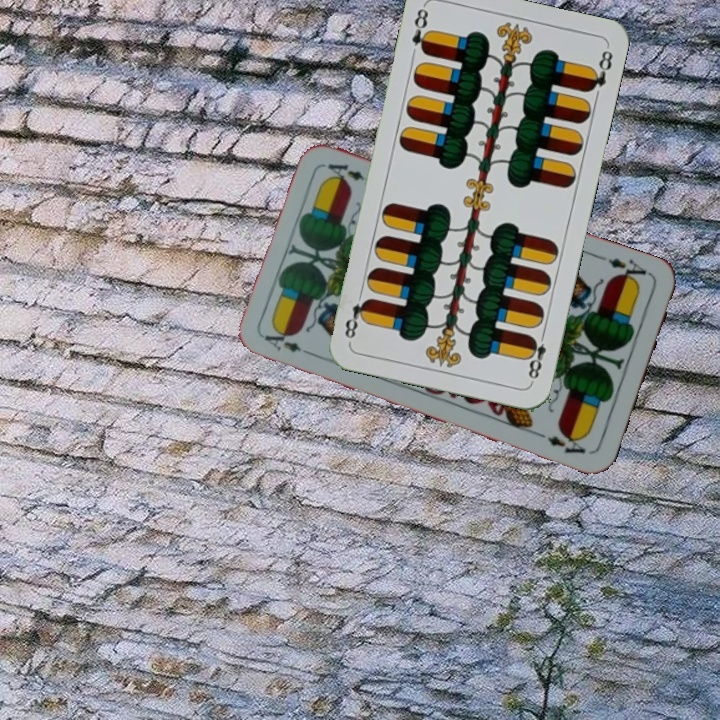E8: (523, 327, 549, 385), (407, 4, 433, 57)
EA: (260, 328, 318, 359), (604, 254, 653, 287)
